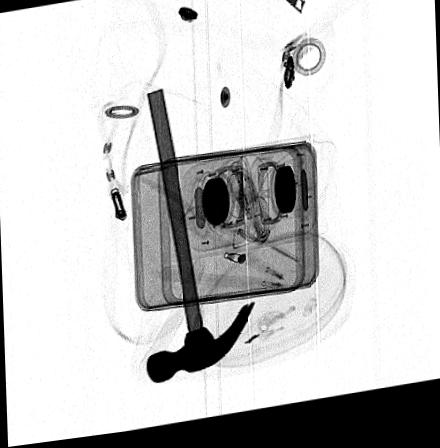Hammer: (146, 92, 256, 387)
